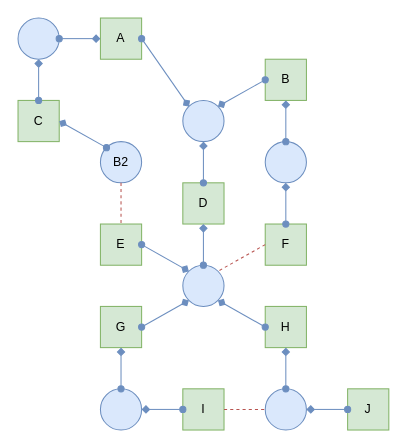
This 407x448 diagram has some shape labels left out. The shapes that lost their labels are listed below. From the top down, each one's centre as x and y in pixels, then its label:
At (38,38): "B7".
At (203,120): "B1 Root".
At (285,162): "B3".
At (203,285): "B5".
At (120,409): "B4".
At (285,409): "B6".
